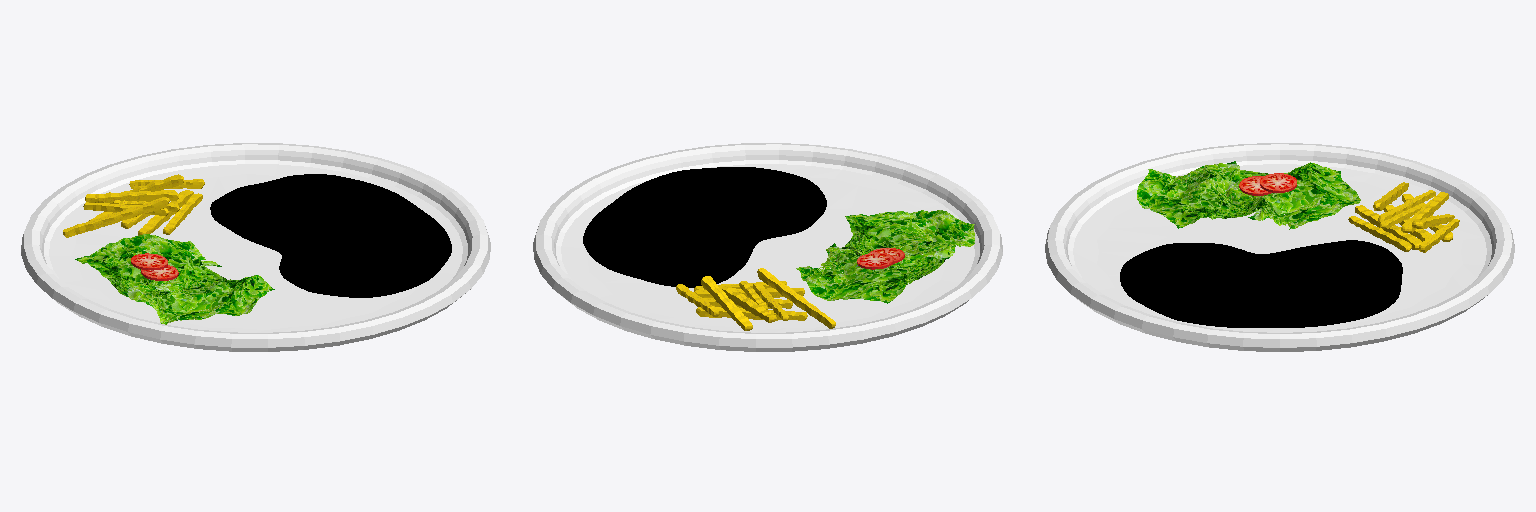
3 views of the same model, side by side, from view 1: azimuth 30°, elevation 25°; view 2: azimuth 150°, elevation 25°; view 3: azimuth 270°, elevation 25° (orthographic).
Visible parts, largest first — view 1: Plato_high_poly, Carne_hi_poly, BossOutput1, BossOutput2, pCube19, pCube17, pCube20; view 2: Plato_high_poly, Carne_hi_poly, BossOutput1, BossOutput2, pCube19, pCube18, pCube17; view 3: Plato_high_poly, Carne_hi_poly, BossOutput1, BossOutput2, pCube22, pCylinder10, pCube20, pCube17.
Boxes of the visible parts, x1=… form: Plato_high_poly: x1=21, y1=143, x2=490, y2=351; Carne_hi_poly: x1=210, y1=174, x2=451, y2=297; BossOutput1: x1=123, y1=259, x2=274, y2=324; BossOutput2: x1=75, y1=234, x2=221, y2=296; pCube19: x1=63, y1=197, x2=169, y2=237; pCube17: x1=85, y1=190, x2=178, y2=202; pCube20: x1=138, y1=190, x2=193, y2=235; Plato_high_poly: x1=533, y1=143, x2=1002, y2=351; Carne_hi_poly: x1=583, y1=167, x2=826, y2=287; BossOutput1: x1=842, y1=210, x2=974, y2=259; BossOutput2: x1=796, y1=243, x2=949, y2=303; pCube19: x1=757, y1=268, x2=835, y2=328; pCube18: x1=701, y1=276, x2=752, y2=330; pCube17: x1=719, y1=284, x2=776, y2=322; Plato_high_poly: x1=1045, y1=143, x2=1514, y2=351; Carne_hi_poly: x1=1120, y1=240, x2=1402, y2=327; BossOutput1: x1=1137, y1=161, x2=1262, y2=228; BossOutput2: x1=1218, y1=162, x2=1360, y2=229; pCube22: x1=1348, y1=216, x2=1411, y2=251; pCylinder10: x1=1260, y1=173, x2=1296, y2=192; pCube20: x1=1355, y1=205, x2=1421, y2=249; pCube17: x1=1401, y1=192, x2=1448, y2=232.
Size of the model in its own units: 14.18 by 2.18 by 14.18.
Materials: 5 (3 with a texture image).